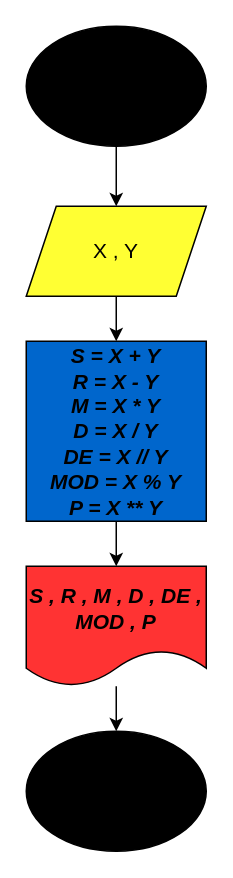
The diagram is 233 pixels wide and 878 high, and some of its shapes have lost their labels. Here are the shapes that lost their labels. From the top down, the centre of each, then its label:
point (115, 85): INICIO
point (115, 790): FINAL
